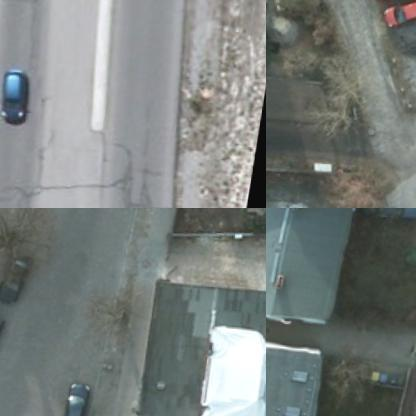car: (4, 66, 36, 123), (3, 255, 35, 304), (66, 377, 101, 415), (380, 0, 415, 30), (360, 208, 415, 224), (0, 311, 11, 365), (369, 0, 415, 11)
